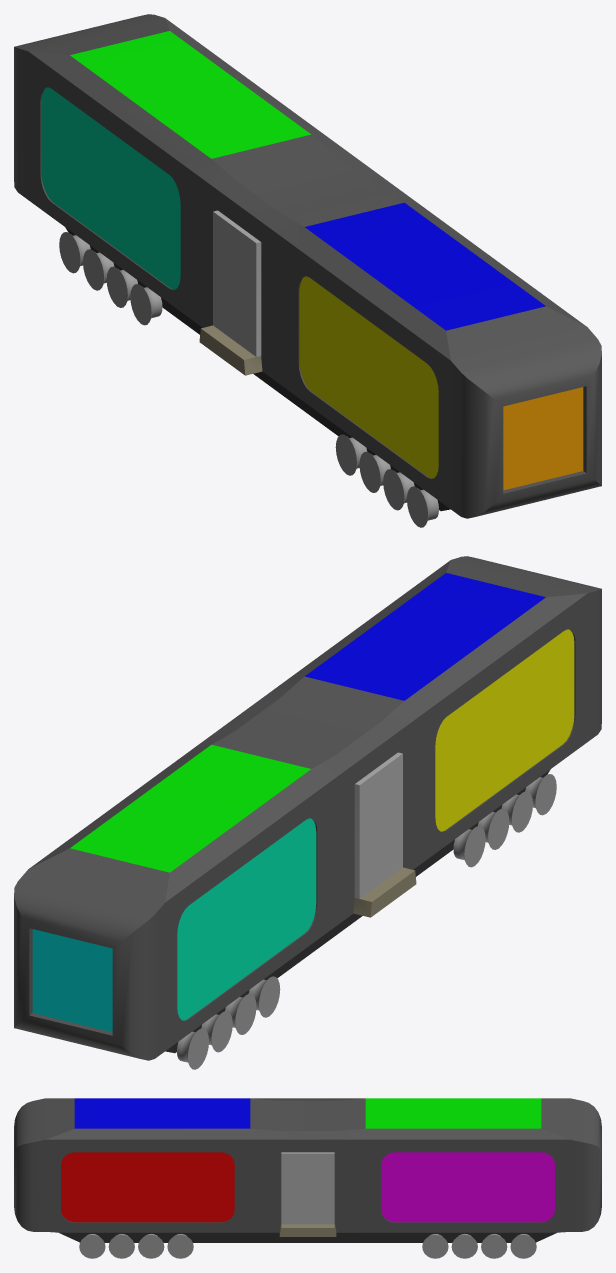
File: Train.fbx
3 views of the same model, one above another, from view 1: azimuth 30°, elevation 25°; view 2: azimuth 150°, elevation 25°; view 3: azimuth 270°, elevation 25° (orthographic). The views are drawn at different scales.
Visible parts, largest first — view 1: Train, RoueGauche3, RoueGauche7, RoueGauche, RoueGauche1, RoueGauche4, RoueGauche6, RoueGauche5, RoueGauche2; view 2: Train, RoueGauche4, RoueGauche, RoueGauche7, RoueGauche1, RoueGauche3, RoueGauche6, RoueGauche2, RoueGauche5; view 3: Train, RoueDroite, RoueDroite3, RoueDroite4, RoueDroite7, RoueDroite1, RoueDroite2, RoueDroite5, RoueDroite6.
Part boxes in pixels (x1,y1,x2,y2): Train: (14,14,601,518); RoueGauche3: (130,284,162,325); RoueGauche7: (407,486,438,527); RoueGauche: (59,232,90,273); RoueGauche1: (83,249,114,290); RoueGauche4: (335,434,367,475); RoueGauche6: (383,469,414,510); RoueGauche5: (359,451,390,492); RoueGauche2: (106,266,137,307); Train: (14,556,601,1060); RoueGauche4: (453,826,485,867); RoueGauche: (177,1028,208,1069); RoueGauche7: (525,774,556,815); RoueGauche1: (201,1011,232,1052); RoueGauche3: (248,976,280,1017); RoueGauche6: (501,791,532,832); RoueGauche2: (225,993,256,1034); RoueGauche5: (478,808,509,849); Train: (14,1098,601,1242); RoueDroite: (510,1234,536,1258); RoueDroite3: (422,1234,448,1258); RoueDroite4: (167,1234,193,1258); RoueDroite7: (79,1234,105,1258); RoueDroite1: (481,1234,507,1258); RoueDroite2: (451,1234,477,1258); RoueDroite5: (138,1234,164,1258); RoueDroite6: (108,1234,134,1258).
Bounding box in the file's own units: 6.26 × 7.08 × 30.
